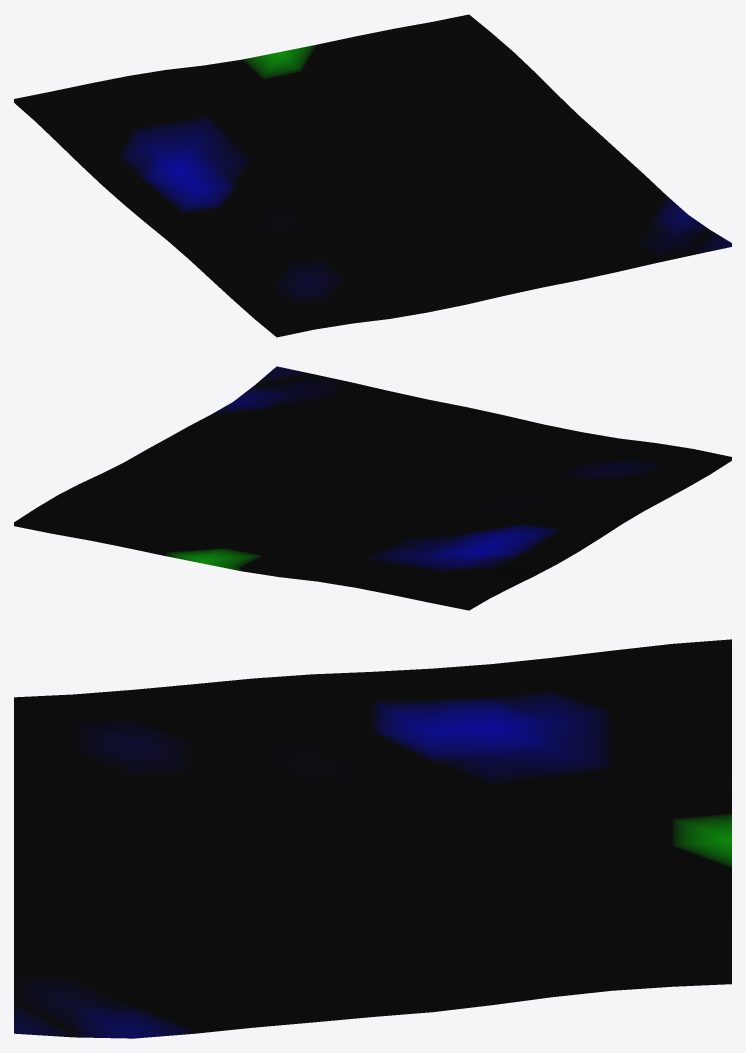
Rendered from coast_14_0.glb.
3 renders of one model, top to bottom at view 1: azimuth 30°, elevation 25°; view 2: azimuth 150°, elevation 25°; view 3: azimuth 270°, elevation 25°, orthographic. The views are drawn at different scales.
Parts seen in each view (by area): view 1: terrain; view 2: terrain; view 3: terrain.
Part boxes in pixels (x1,y1,x2,y2): terrain: [14, 14, 731, 337]; terrain: [14, 366, 731, 610]; terrain: [14, 639, 731, 1038].
Bounding box in the file's own units: 192 × 28.27 × 192.
